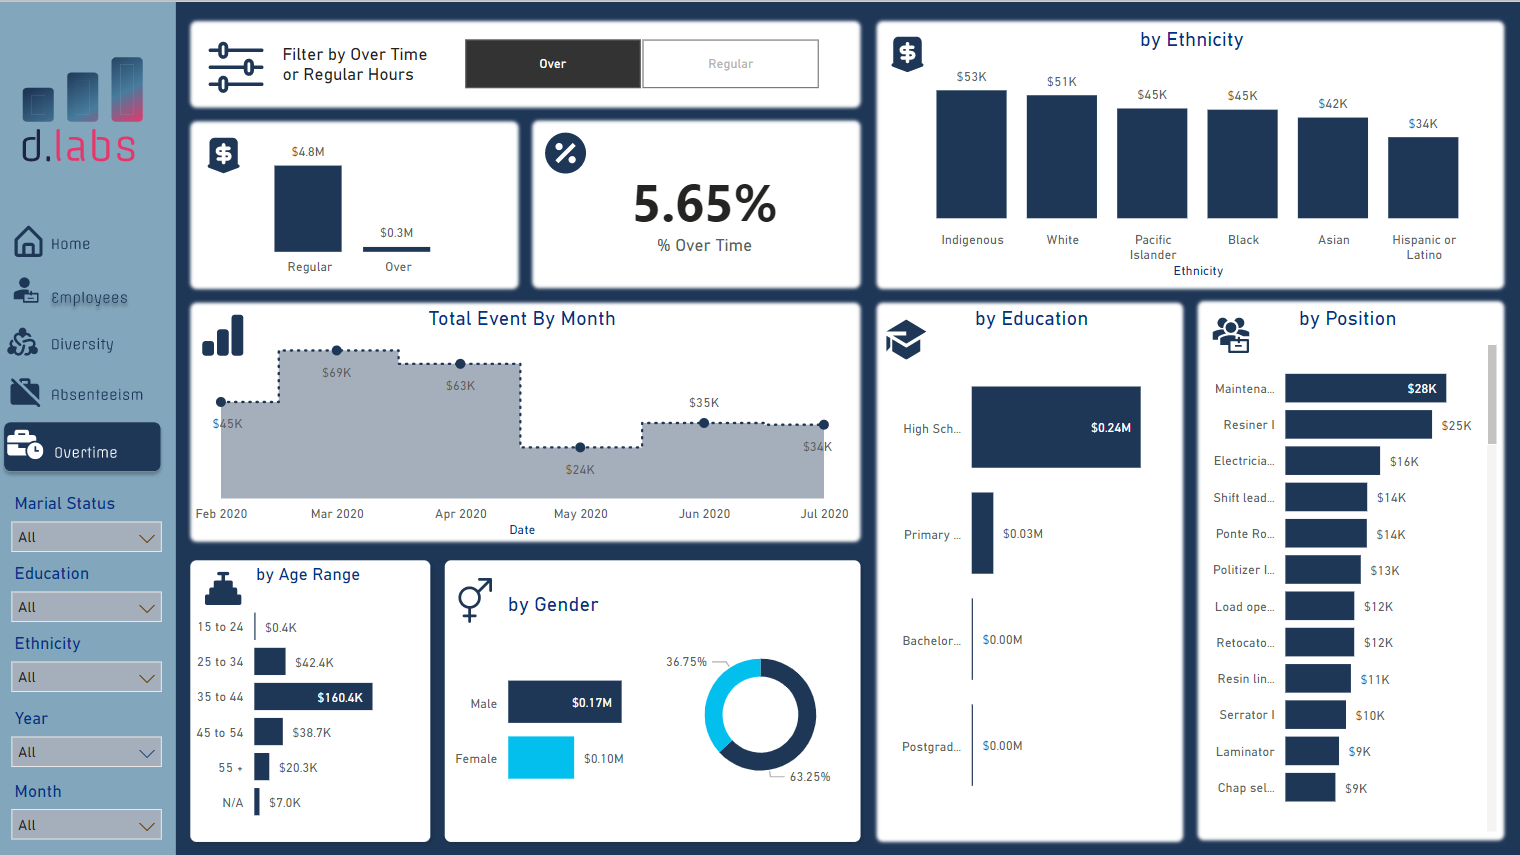

The dashboard page shown, as its layout file describes it:
{"tool":"powerbi","page":{"name":"Overtime","canvas":[1280,720],"ordinal":4},"visuals":[{"type":"areaChart","title":"Total Event By Month","fields":{"Category":["dCalendario.Date"],"Y":["Measures (2).Total Event"]},"box":[159.4,255.9,559.7,198.4],"z":0},{"type":"slicer","fields":{"Values":["dEvent.Category"]},"box":[365.8,24.8,347.2,54.9],"z":1000},{"type":"clusteredColumnChart","title":"by Year","fields":{"Y":["Measures (2).Total Event"],"Category":["dEvent.Category"]},"box":[159.4,103.6,278.1,133.7],"z":2000},{"type":"card","fields":{"Values":["Measures (2).% Over Time"]},"box":[484.4,130.2,217.9,91.2],"z":3000},{"type":"clusteredBarChart","title":"by Age Range","fields":{"Category":["dFuncionarios.Faixa Etaria"],"Y":["Measures (2).Total Event"]},"box":[159.4,472.9,200.1,229.4],"z":4000},{"type":"clusteredColumnChart","title":"by Ethnicity","fields":{"Y":["Measures (2).Total Event"],"Category":["dFuncionarios.Nacionalidade"]},"box":[741.3,22.1,521.6,215.2],"z":5000},{"type":"clusteredBarChart","title":"by Education","fields":{"Y":["Measures (2).Total Event"],"Category":["dFuncionarios.Escolaridade"]},"box":[741.3,255.9,252.4,446.3],"z":6000},{"type":"clusteredBarChart","title":"by Position","fields":{"Y":["Measures (2).Total Event"],"Category":["dFuncionarios.fContratos.Position"]},"box":[1002.5,255.9,260.4,446.3],"z":7000},{"type":"clusteredBarChart","title":"by Gender","fields":{"Y":["Measures (2).Total Event"],"Category":["dFuncionarios.Sexo"]},"box":[377.3,496.8,177.1,205.5],"z":8000},{"type":"donutChart","fields":{"Category":["dFuncionarios.Sexo"],"Y":["Measures (2).Total Event"]},"box":[554.4,496.8,170.9,205.5],"z":9000},{"type":"textbox","box":[232.9,31.9,144.4,47.8],"z":10000},{"type":"actionButton","box":[6.2,182.4,109.8,32.8],"z":11000},{"type":"actionButton","box":[6.2,312.6,117.8,32.8],"z":12000},{"type":"actionButton","box":[10.6,228.5,100.1,31],"z":13000},{"type":"actionButton","box":[6.2,271,109.8,32.8],"z":14000},{"type":"slicer","fields":{"Values":["dFuncionarios.Estado Civil"]},"box":[0,408.3,147,70],"z":14001},{"type":"slicer","fields":{"Values":["dFuncionarios.Escolaridade"]},"box":[0,467.6,147,70],"z":14002},{"type":"slicer","fields":{"Values":["dFuncionarios.Nacionalidade"]},"box":[0,526.1,147,70],"z":14003},{"type":"slicer","fields":{"Values":["dCalendario.Year"]},"box":[0,588.9,147,70],"z":14004},{"type":"slicer","fields":{"Values":["dCalendario.MOnth"]},"box":[0,650,147,70],"z":14005}]}

Visuals, with their boxes on the page's 1280x720 design canvas (x1, y1, x2, y2). These are canvas units, not pixel positions in the 1520x855 screenshot, which may show the page scaled, cropped or inside an application window:
"Total Event By Month" areaChart: select_region(159, 256, 719, 454)
slicer - dEvent.Category: select_region(366, 25, 713, 80)
"by Year" clusteredColumnChart: select_region(159, 104, 438, 237)
card - Measures (2).% Over Time: select_region(484, 130, 702, 221)
"by Age Range" clusteredBarChart: select_region(159, 473, 360, 702)
"by Ethnicity" clusteredColumnChart: select_region(741, 22, 1263, 237)
"by Education" clusteredBarChart: select_region(741, 256, 994, 702)
"by Position" clusteredBarChart: select_region(1002, 256, 1263, 702)
"by Gender" clusteredBarChart: select_region(377, 497, 554, 702)
donutChart - dFuncionarios.Sexo x Measures (2).Total Event: select_region(554, 497, 725, 702)
textbox: select_region(233, 32, 377, 80)
actionButton: select_region(6, 182, 116, 215)
actionButton: select_region(6, 313, 124, 345)
actionButton: select_region(11, 228, 111, 260)
actionButton: select_region(6, 271, 116, 304)
slicer - dFuncionarios.Estado Civil: select_region(0, 408, 147, 478)
slicer - dFuncionarios.Escolaridade: select_region(0, 468, 147, 538)
slicer - dFuncionarios.Nacionalidade: select_region(0, 526, 147, 596)
slicer - dCalendario.Year: select_region(0, 589, 147, 659)
slicer - dCalendario.MOnth: select_region(0, 650, 147, 720)
